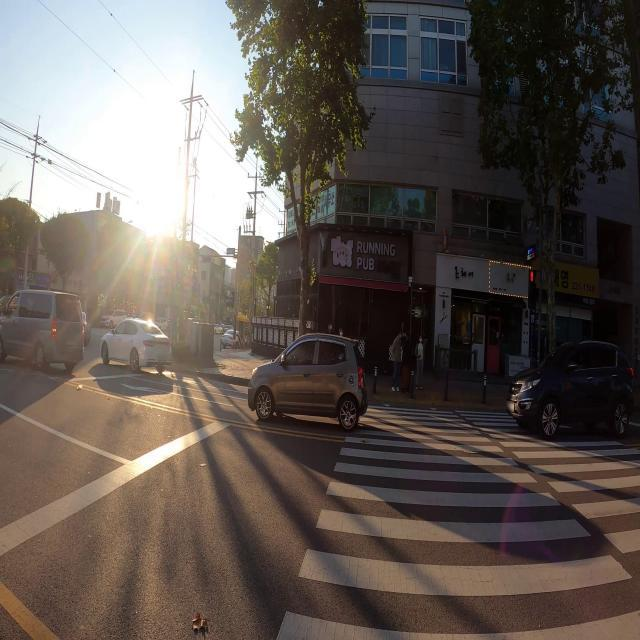crosswalk: (275, 399, 640, 640)
